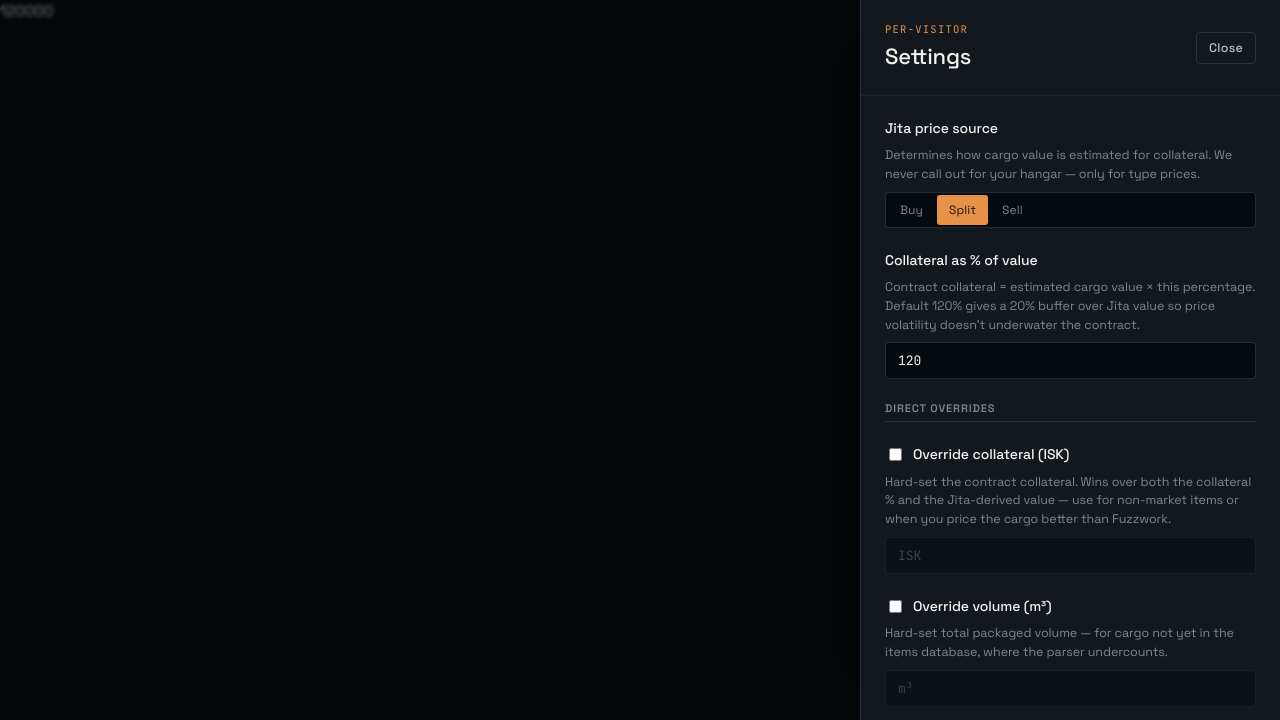
Test case: SettingsDrawer — collateral-% typed input (#36) › clamps an out-of-range typed value up to the canonical minimum on commit
Clear the number field labelled "Collateral as % of value" at (1070, 361), box [885, 342, 1256, 380]
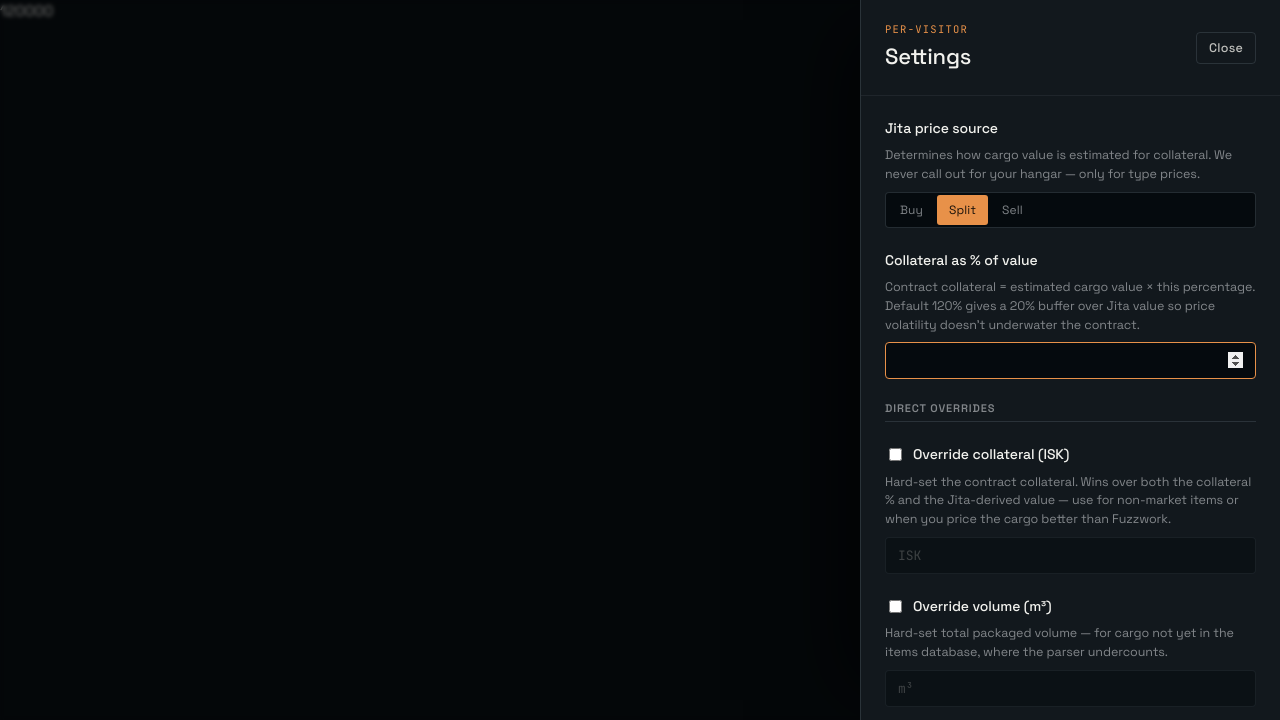
Type keys "1"
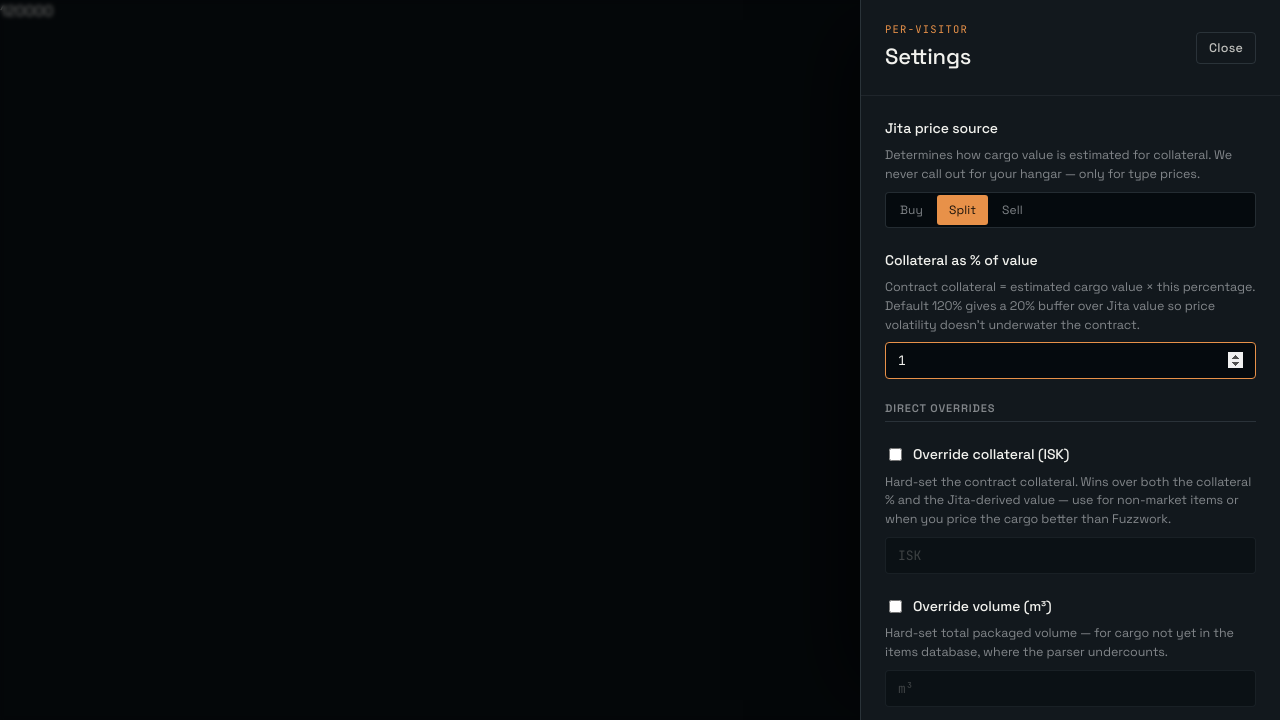
Press Tab
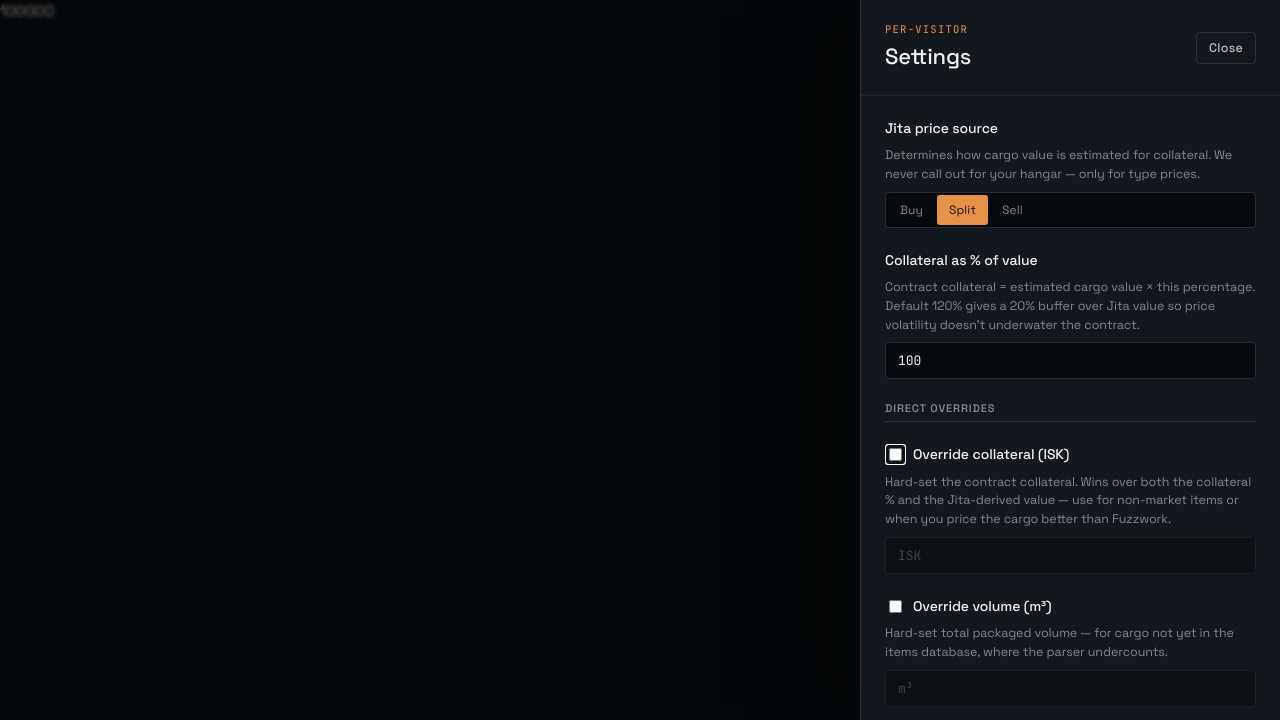
expect the text with test id "pct-value" reads "100": met, box [0, 1, 25, 20]
expect the number field labelled "Collateral as % of value" holds "100": met, box [885, 342, 1256, 380]
